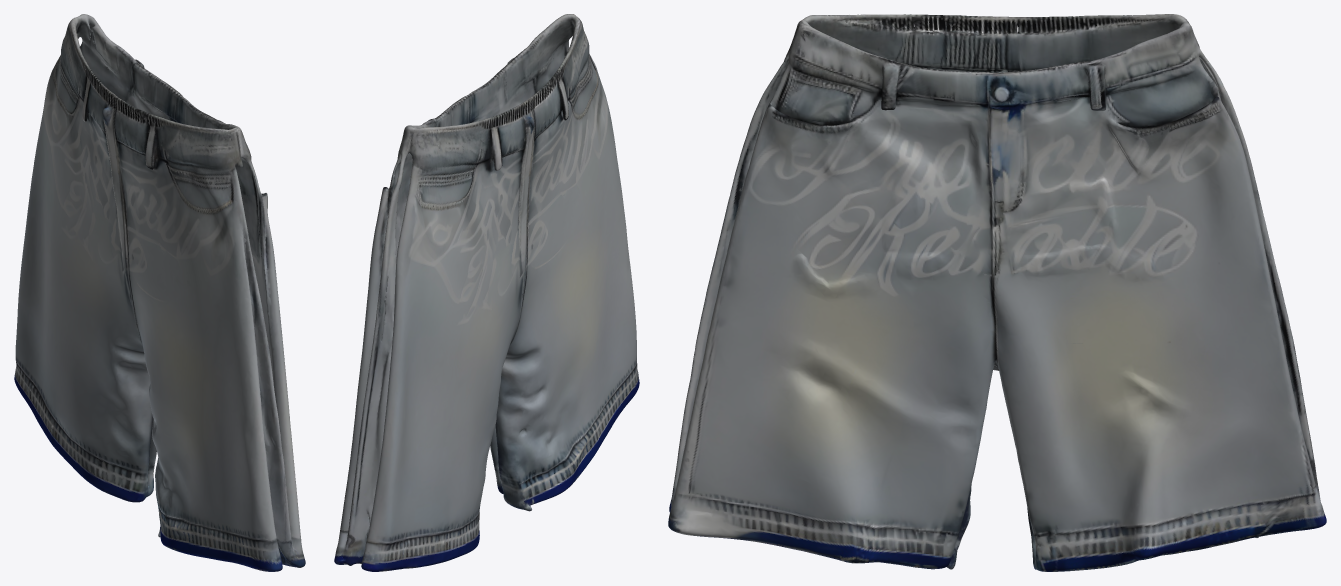
The model's file is tripo_pbr_model_320e9c52-55f1-_6dcd7ac0_opt.glb.
3 renders of one model, left to right at view 1: azimuth 30°, elevation 25°; view 2: azimuth 150°, elevation 25°; view 3: azimuth 270°, elevation 25°, orthographic. The views are drawn at different scales.
Parts seen in each view (by area): view 1: tripo_node_320e9c52-55f1-40fd-a889-ddab3084bdc2; view 2: tripo_node_320e9c52-55f1-40fd-a889-ddab3084bdc2; view 3: tripo_node_320e9c52-55f1-40fd-a889-ddab3084bdc2.
Boxes of the visible parts, <box> form: tripo_node_320e9c52-55f1-40fd-a889-ddab3084bdc2: <box>14,14,305,571</box>; tripo_node_320e9c52-55f1-40fd-a889-ddab3084bdc2: <box>334,14,639,571</box>; tripo_node_320e9c52-55f1-40fd-a889-ddab3084bdc2: <box>668,14,1326,571</box>.
Size of the model in its own units: 0.1916 by 0.9262 by 0.9998.
1 material, 1 textured.
